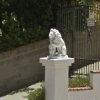Statue: (36, 21, 81, 75)
